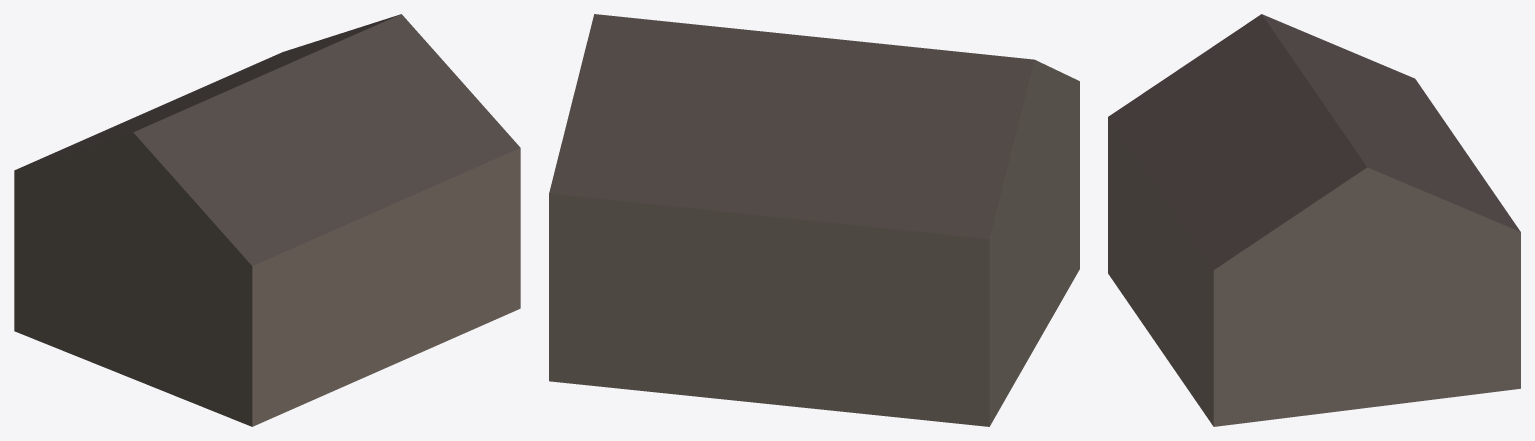
3 renders of one model, left to right at view 1: azimuth 30°, elevation 25°; view 2: azimuth 150°, elevation 25°; view 3: azimuth 270°, elevation 25°, orthographic. The views are drawn at different scales.
Parts seen in each view (by area): view 1: HP-w1200769503; view 2: HP-w1200769503; view 3: HP-w1200769503.
Boxes of the visible parts, x1=… form: HP-w1200769503: x1=14, y1=14, x2=520, y2=426; HP-w1200769503: x1=549, y1=14, x2=1079, y2=426; HP-w1200769503: x1=1108, y1=14, x2=1520, y2=426.
Size of the model in its own units: 23.6 by 13.81 by 21.49.
